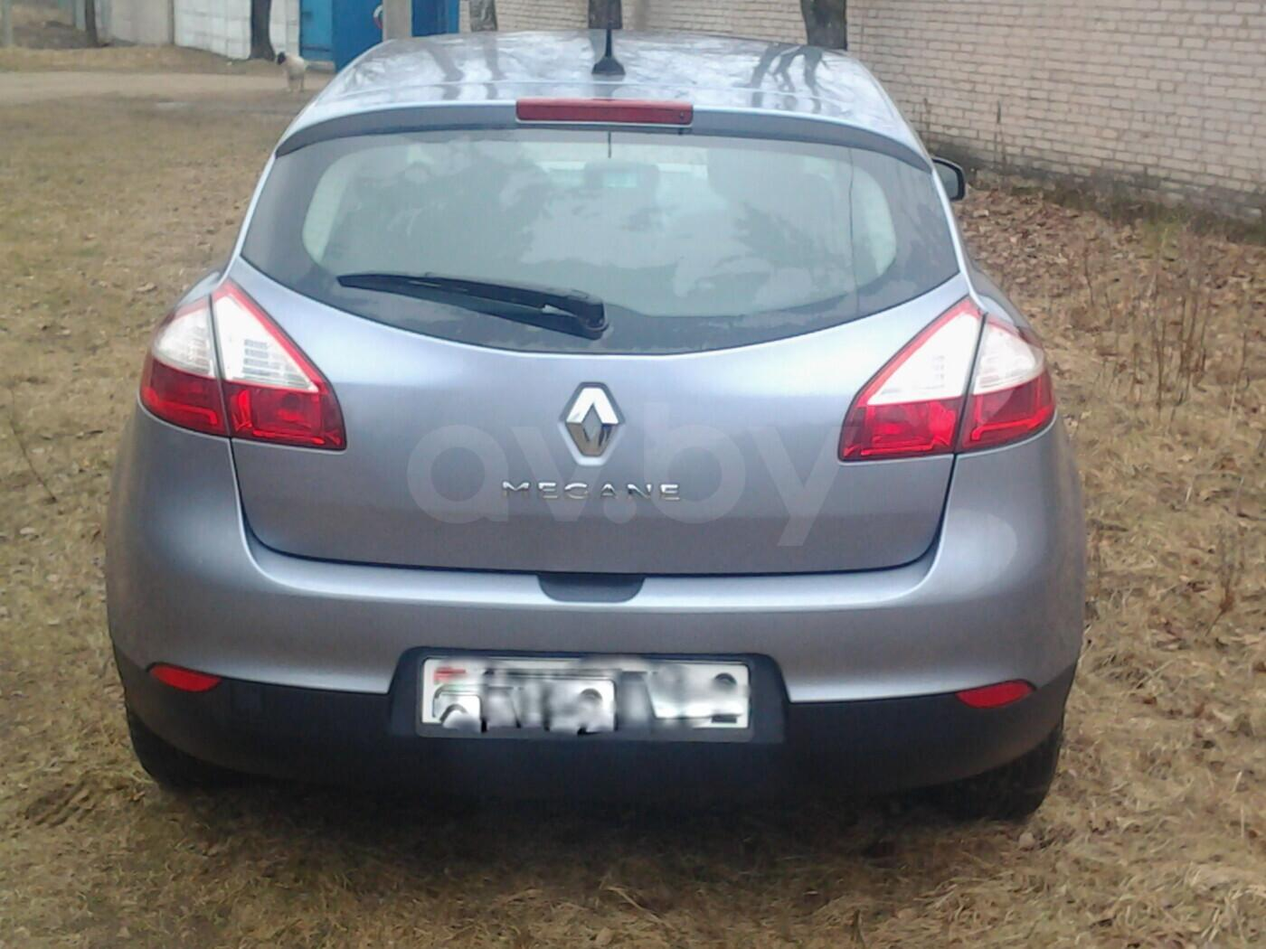Megane_2008-2014: (96, 30, 1081, 843)
